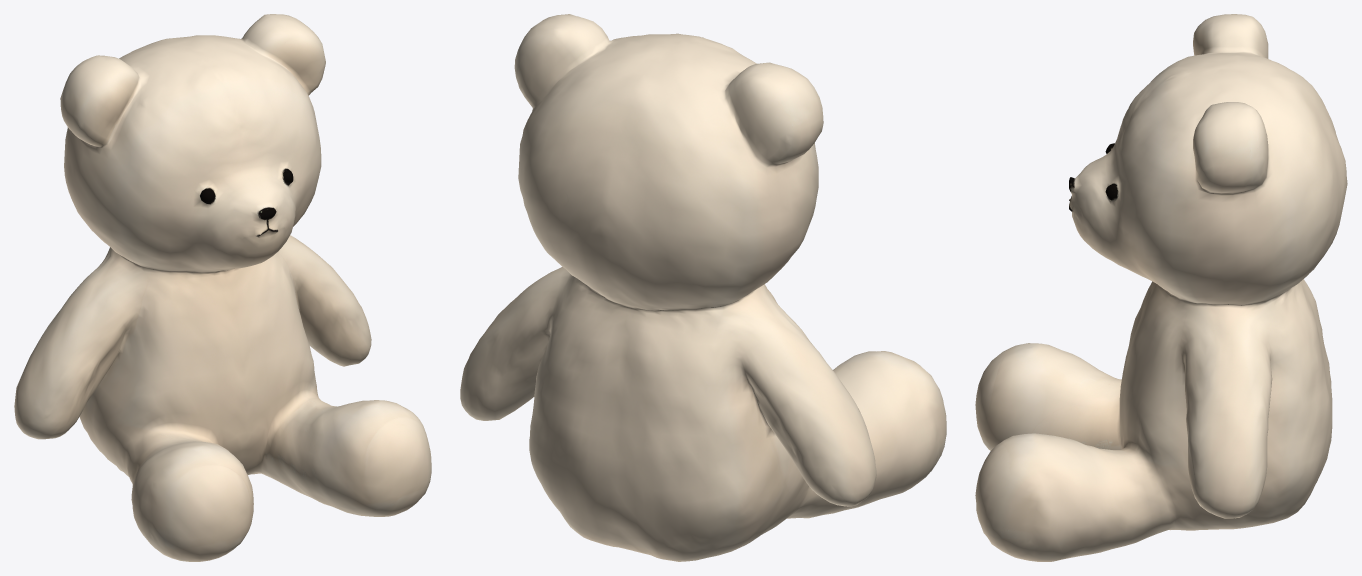
Rendered from Meshy_AI_model.fbx.
3 views of the same model, side by side, from view 1: azimuth 30°, elevation 25°; view 2: azimuth 150°, elevation 25°; view 3: azimuth 270°, elevation 25° (orthographic). The views are drawn at different scales.
Parts seen in each view (by area): view 1: Mesh_0; view 2: Mesh_0; view 3: Mesh_0.
Part boxes in pixels (<box>): Mesh_0: <box>14,14,431,561</box>; Mesh_0: <box>460,14,946,561</box>; Mesh_0: <box>975,14,1347,561</box>.
Size of the model in its own units: 162 by 191 by 143.
Materials: 1 (1 with a texture image).
